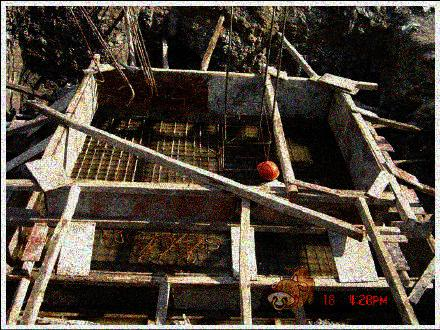helmet: (255, 159, 281, 183)
